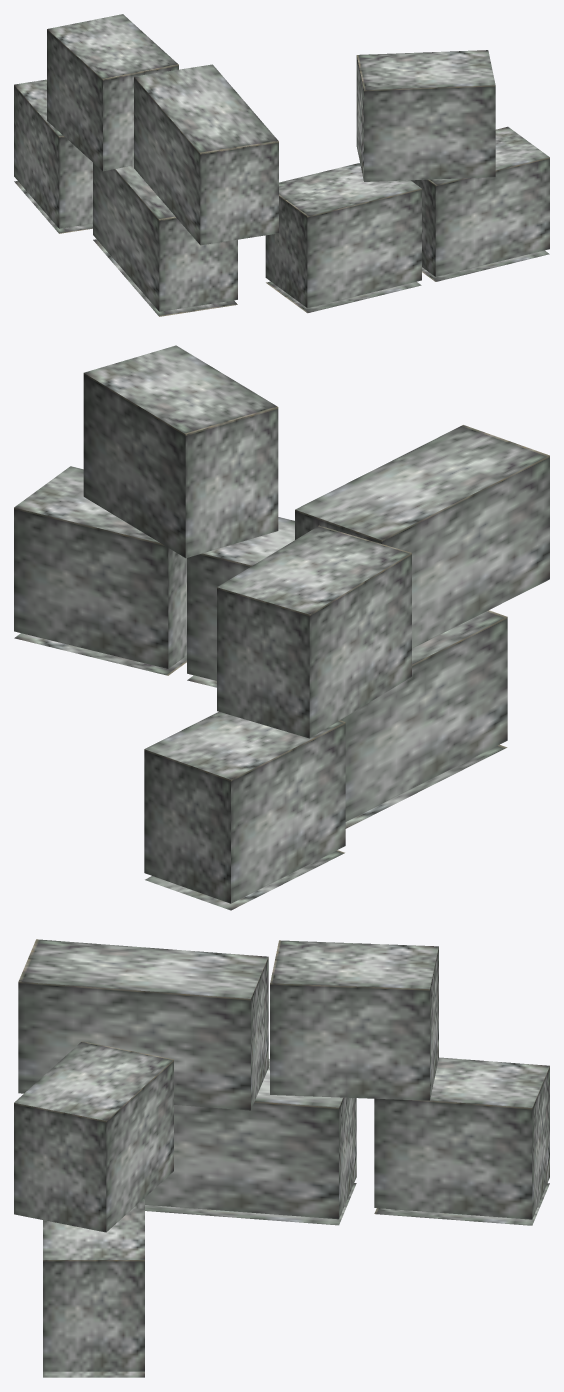
File: Brick_Pile1.dae
3 renders of one model, top to bottom at view 1: azimuth 30°, elevation 25°; view 2: azimuth 150°, elevation 25°; view 3: azimuth 270°, elevation 25°, orthographic. The views are drawn at different scales.
Visible parts, largest first — view 1: Object001; view 2: Object001; view 3: Object001.
Part boxes in pixels (x1=…): Object001: x1=14, y1=14, x2=549, y2=316; Object001: x1=14, y1=345, x2=549, y2=910; Object001: x1=14, y1=939, x2=549, y2=1377.
Size of the model in its own units: 2.91 by 1.51 by 3.11.
